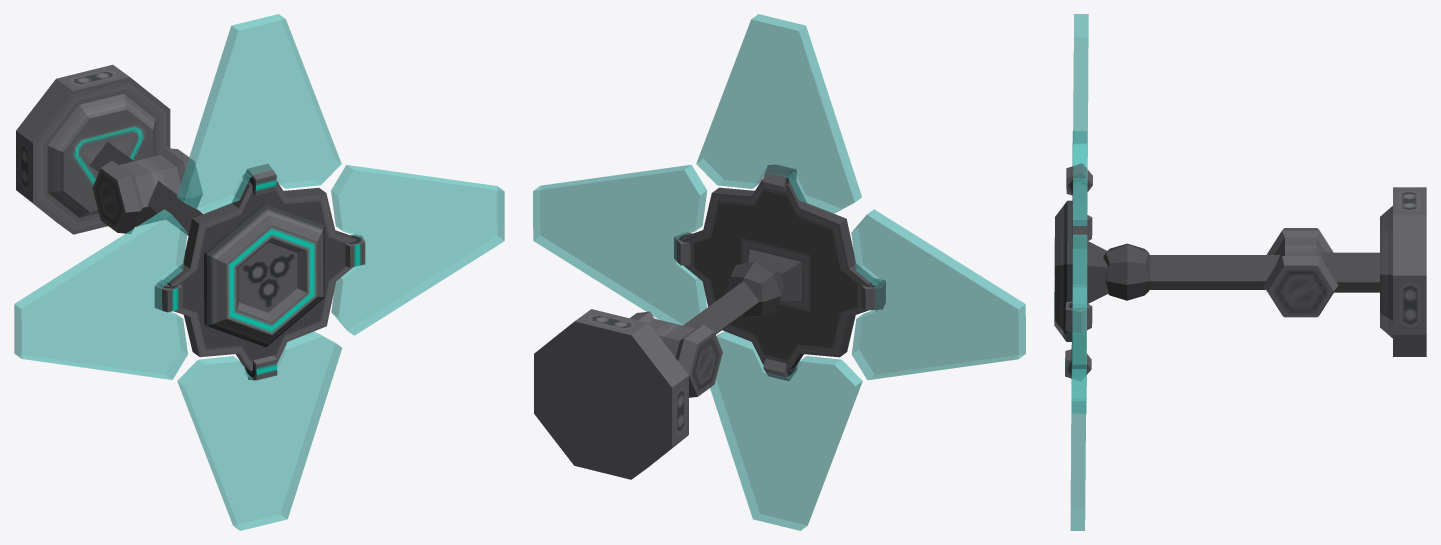
Rendered from SM_Prop_Satellite_01.fbx.
The picture shows the model from 3 angles, left to right: view 1: azimuth 30°, elevation 25°; view 2: azimuth 150°, elevation 25°; view 3: azimuth 270°, elevation 25°; orthographic projection.
Visible parts, largest first — view 1: SM_Prop_Satellite_01_Dish_01, SM_Prop_Satellite_01, SM_Prop_Satellite_01_Wing_02, SM_Prop_Satellite_01_Wing_01, SM_Prop_Satellite_01_Wing_04, SM_Prop_Satellite_01_Wing_03; view 2: SM_Prop_Satellite_01, SM_Prop_Satellite_01_Dish_01, SM_Prop_Satellite_01_Wing_02, SM_Prop_Satellite_01_Wing_01, SM_Prop_Satellite_01_Wing_03, SM_Prop_Satellite_01_Wing_04; view 3: SM_Prop_Satellite_01, SM_Prop_Satellite_01_Dish_01, SM_Prop_Satellite_01_Wing_02, SM_Prop_Satellite_01_Wing_03, SM_Prop_Satellite_01_Wing_04, SM_Prop_Satellite_01_Wing_01.
Boxes of the visible parts, x1,y1,x2,y2 form: SM_Prop_Satellite_01_Dish_01: (164, 180, 354, 370); SM_Prop_Satellite_01: (16, 64, 203, 235); SM_Prop_Satellite_01_Wing_02: (176, 14, 341, 213); SM_Prop_Satellite_01_Wing_01: (14, 209, 187, 379); SM_Prop_Satellite_01_Wing_04: (177, 331, 342, 530); SM_Prop_Satellite_01_Wing_03: (331, 165, 504, 335); SM_Prop_Satellite_01: (534, 261, 784, 479); SM_Prop_Satellite_01_Dish_01: (683, 179, 875, 370); SM_Prop_Satellite_01_Wing_02: (696, 14, 861, 213); SM_Prop_Satellite_01_Wing_01: (851, 209, 1025, 380); SM_Prop_Satellite_01_Wing_03: (533, 164, 707, 325); SM_Prop_Satellite_01_Wing_04: (710, 331, 862, 530); SM_Prop_Satellite_01: (1103, 187, 1426, 356); SM_Prop_Satellite_01_Dish_01: (1054, 186, 1108, 368); SM_Prop_Satellite_01_Wing_02: (1066, 14, 1092, 225); SM_Prop_Satellite_01_Wing_03: (1065, 234, 1092, 413); SM_Prop_Satellite_01_Wing_04: (1065, 342, 1091, 530); SM_Prop_Satellite_01_Wing_01: (1072, 131, 1092, 240).
Size of the model in its own units: 204 by 202 by 138.
